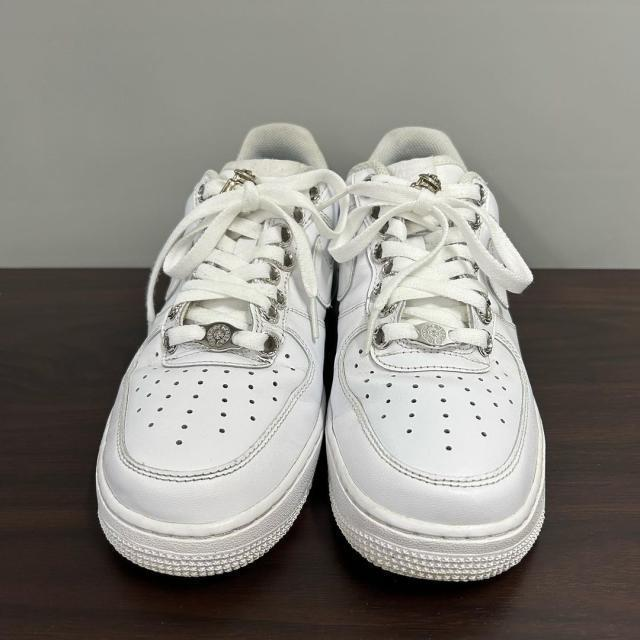nike original air force: (97, 125, 338, 580), (326, 126, 548, 584)
